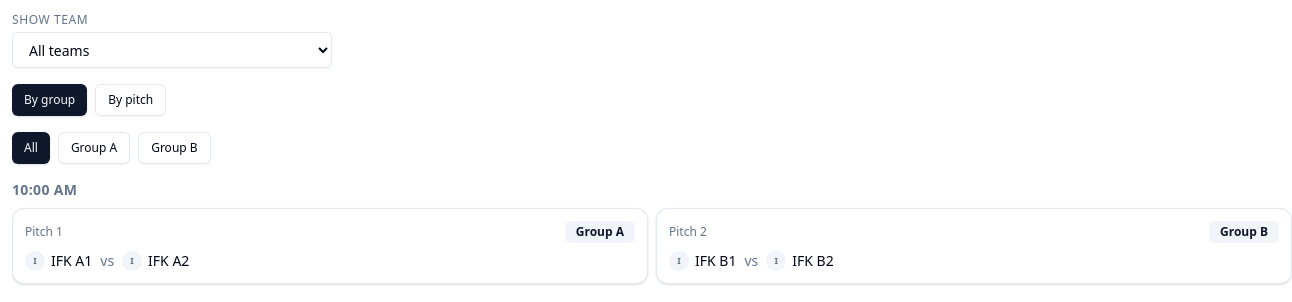
Test: PublicScheduleView › switches to pitch view and filters to a single pitch
The width and height of the screenshot is (1292, 302).
Check: the text "IFK A1" is shown, box [51,251,92,270]
Click the button "By pitch": (131, 100) [95,84,166,116]
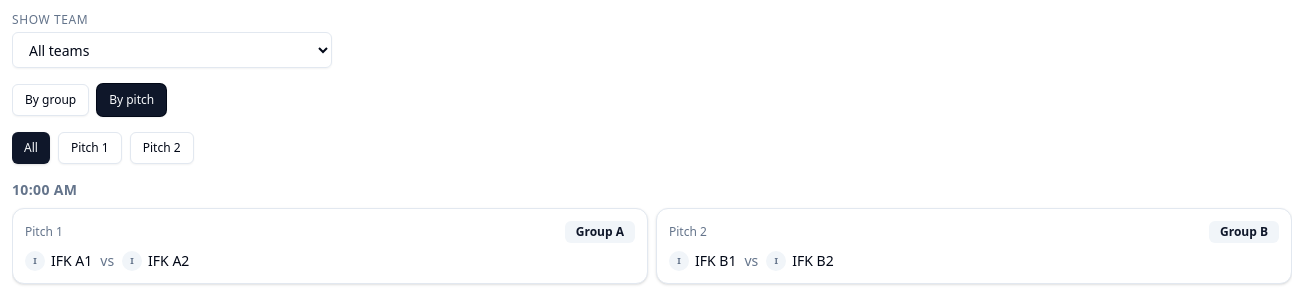
Click the button "Pitch 2": (162, 148) [130,132,194,164]
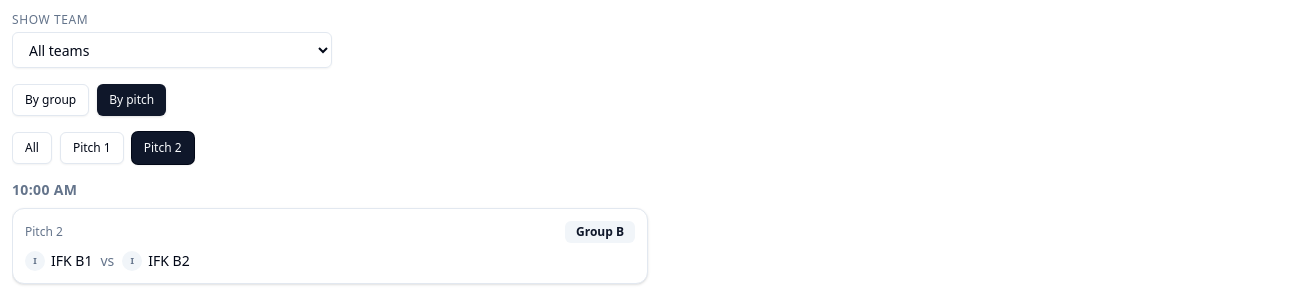
Check: the text "IFK B1" is shown, box [51,251,92,270]
Check: the text "IFK A1" is gone
